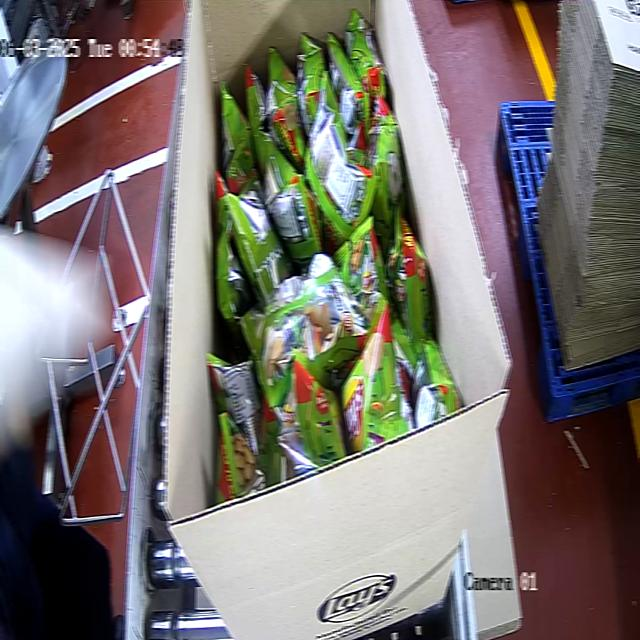YOGURT_HERB: (208, 6, 458, 433)
